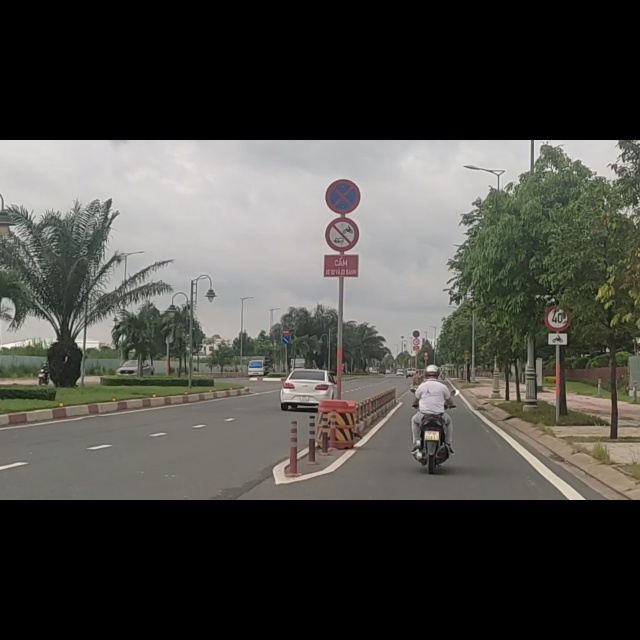bien_cam: (322, 133, 360, 204), (325, 65, 363, 135), (545, 290, 572, 340), (544, 337, 569, 367)
